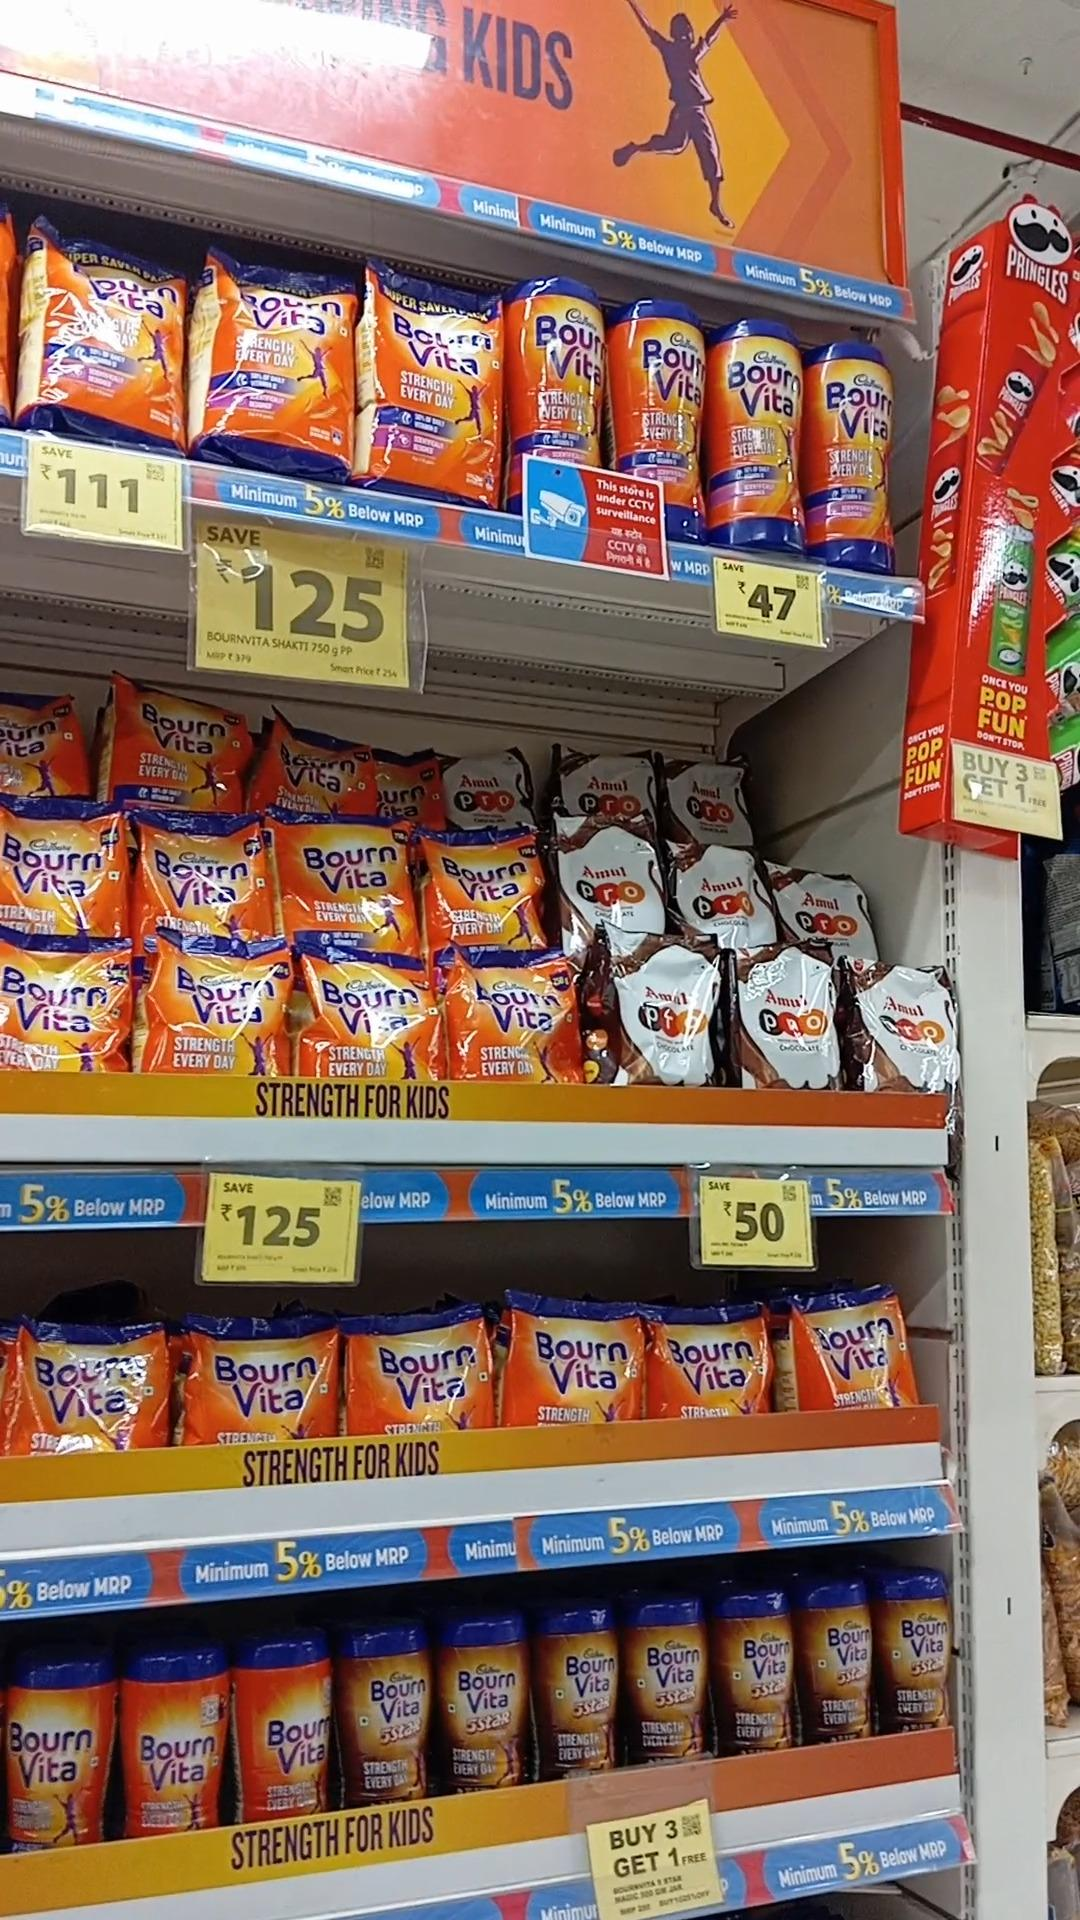BOURN_VITA_1_KG_JAR: (715, 314, 803, 559), (625, 293, 707, 541), (812, 338, 898, 572), (516, 274, 612, 471)
BOURN_VITA_1_KG_POUCH: (34, 215, 181, 444), (368, 265, 505, 508), (206, 247, 347, 472)
BOURN_VITA_500_G_JAR: (9, 1652, 108, 1851), (240, 1634, 338, 1824), (123, 1647, 223, 1830)
BOURN_VITA_500_G_POUCH: (12, 1324, 170, 1455), (189, 1319, 334, 1443), (340, 1315, 489, 1433), (508, 1295, 641, 1425), (796, 1288, 919, 1416), (649, 1307, 775, 1427)
BOURN_VITA_750_G_POUCH: (149, 932, 290, 1073), (280, 810, 415, 944), (307, 944, 438, 1081), (0, 796, 123, 942), (0, 936, 131, 1069), (450, 949, 572, 1081), (136, 810, 265, 930), (115, 687, 247, 804), (425, 829, 545, 947)
BOURN_VITA_FIVE_STAR_MAGIC_500_G_JAR: (343, 1625, 425, 1812), (440, 1615, 524, 1797), (533, 1607, 617, 1779), (712, 1593, 796, 1758), (625, 1600, 707, 1768), (880, 1567, 955, 1733), (804, 1581, 872, 1746)
